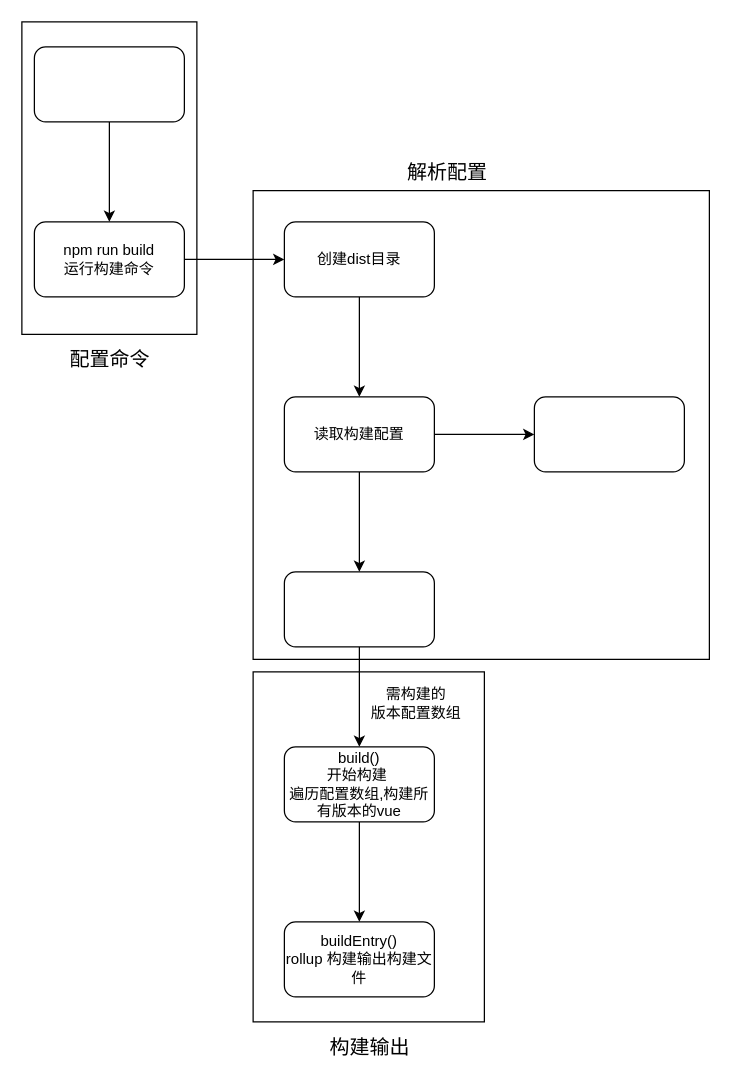
This 731x1081 diagram has some shape labels left out. Each missing label, with the box of its shape:
build/config.js 获取配置map 并转换成 rollup 配置: (533, 396, 684, 472)
package.json 配置script命令: (33, 46, 184, 122)
解析命令参数: (283, 571, 434, 647)
